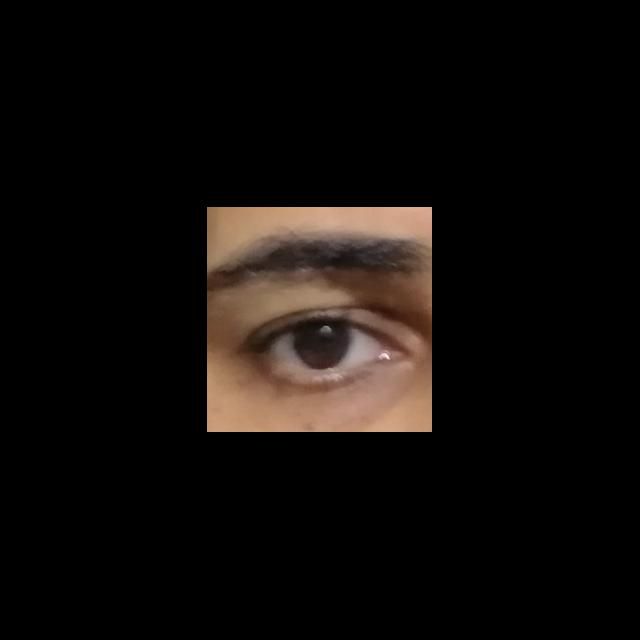eye: (264, 322, 384, 372)
iris: (294, 323, 351, 369)
